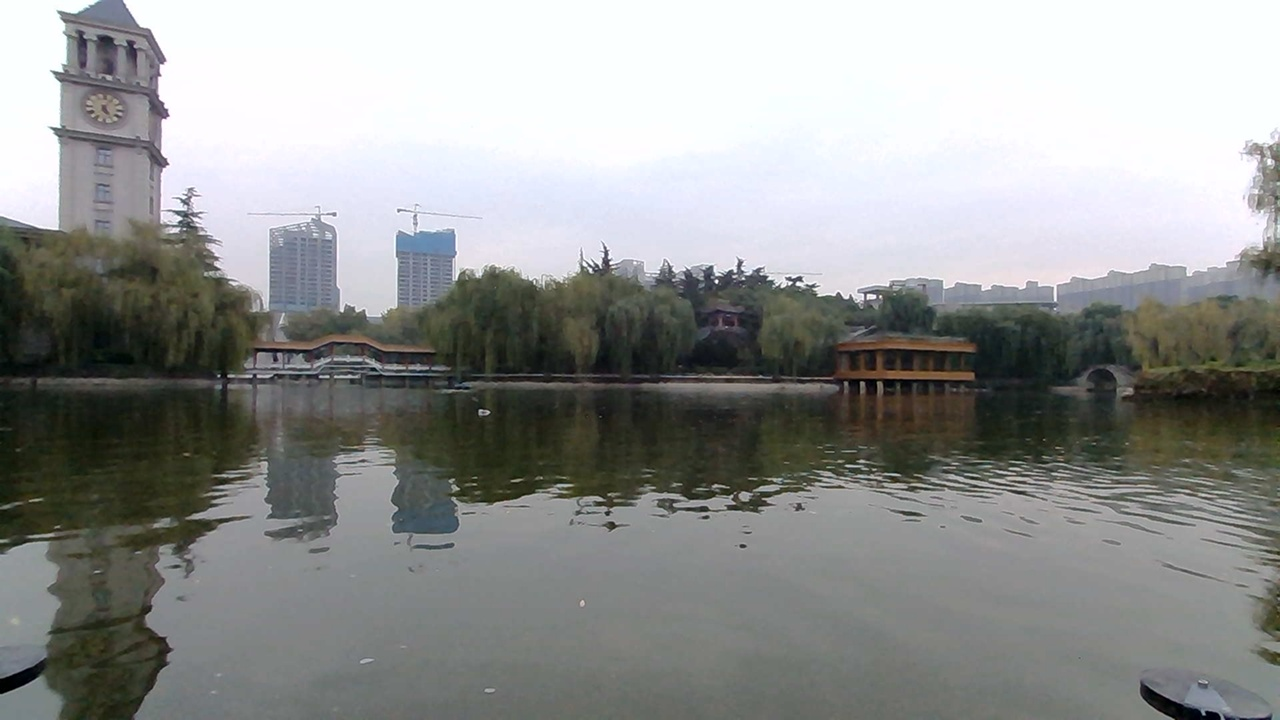bottle: (473, 398, 518, 422)
